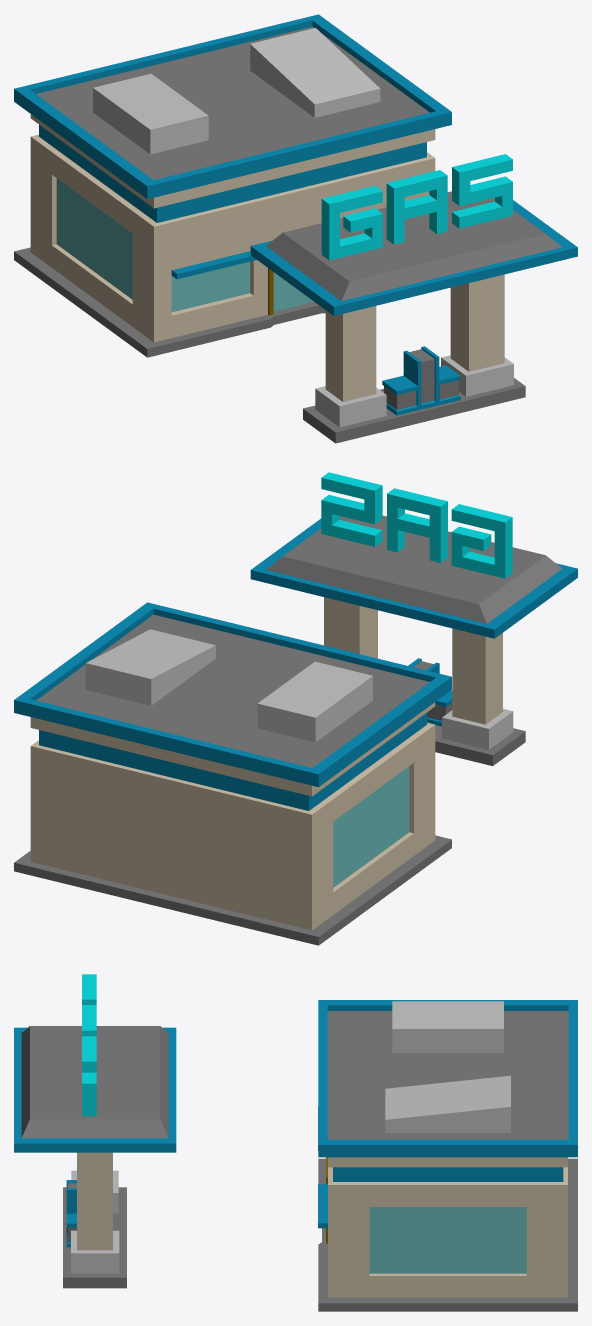
The model's file is msh_GasStation.fbx.
The picture shows the model from 3 angles, top to bottom: view 1: azimuth 30°, elevation 25°; view 2: azimuth 150°, elevation 25°; view 3: azimuth 270°, elevation 25°; orthographic projection. The views are drawn at different scales.
Parts seen in each view (by area): view 1: pCube4, polySurface6; view 2: pCube4, polySurface6; view 3: pCube4, polySurface6.
Part boxes in pixels (x1,y1,x2,y2): pCube4: (14,14,451,357); polySurface6: (250,154,577,443); pCube4: (14,602,451,945); polySurface6: (250,472,577,765); pCube4: (318,1000,577,1311); polySurface6: (14,974,176,1288).
Size of the model in its own units: 12.62 by 9.15 by 20.77.
